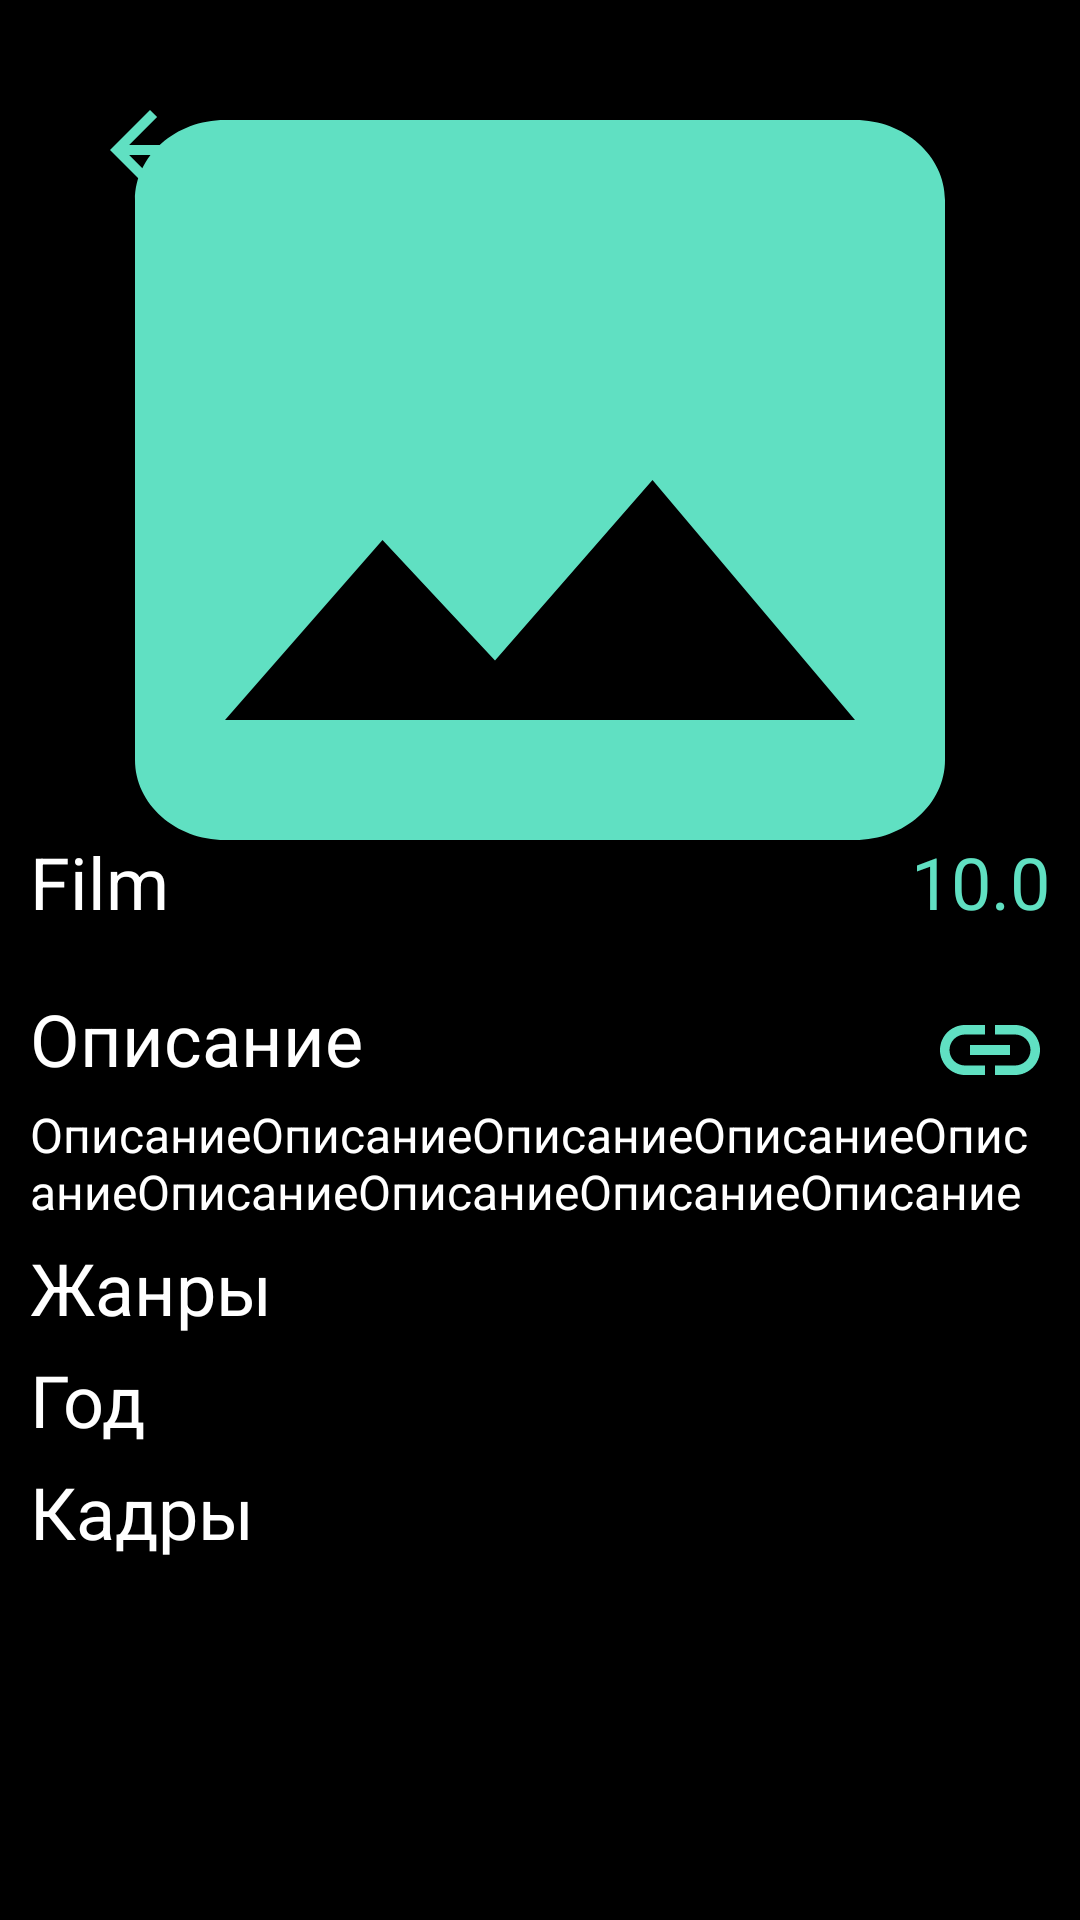

Icons on this 1080 × 1920 Android screen, each with the point to tap as (x,y):
link: (990,1050)
